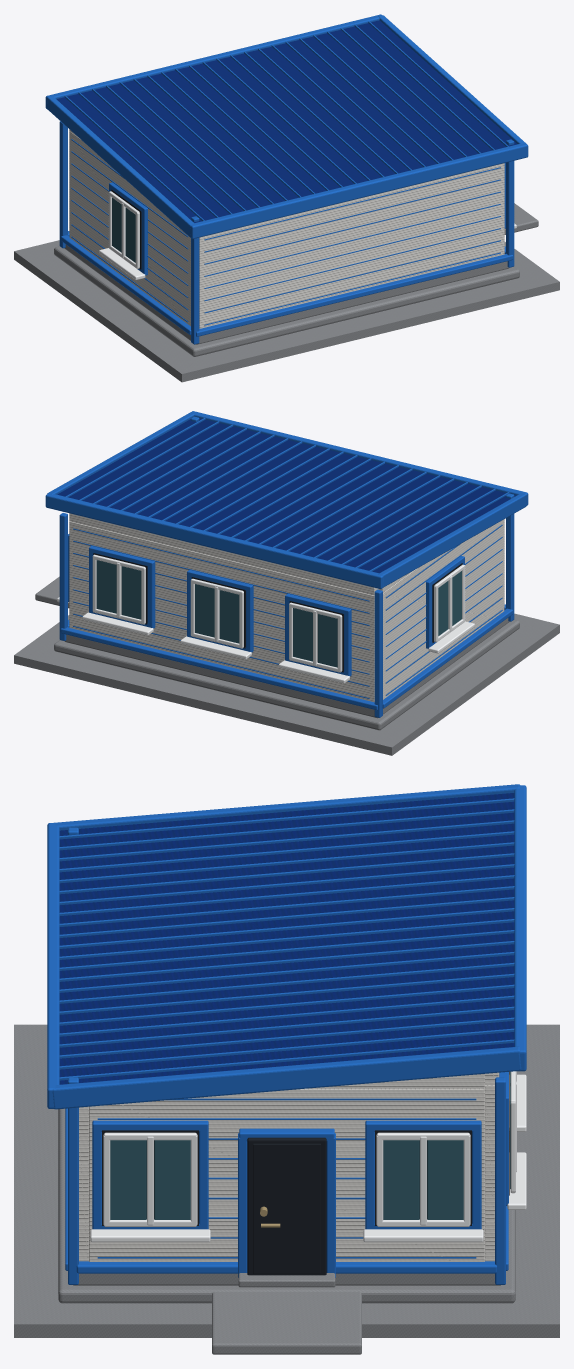
The model's file is House_reference_model.glb.
The picture shows the model from 3 angles, top to bottom: view 1: azimuth 30°, elevation 25°; view 2: azimuth 150°, elevation 25°; view 3: azimuth 270°, elevation 25°; orthographic projection. The views are drawn at different scales.
Parts seen in each view (by area): view 1: Roof_Slab, South_Wall, Ground, West_Wall, Foundation_Slab, South_Roof_Fascia, Foundation_Plinth, West_Roof_Fascia, South_BaseRail, North_Roof_Fascia, East_Roof_Fascia, West_BaseRail (+38 smaller); view 2: Roof_Slab, North_Wall, Ground, West_Wall, Foundation_Slab, North_Roof_Fascia, Foundation_Plinth, RoofGap_North, North_BaseRail, West_Roof_Fascia, South_Roof_Fascia, West_BaseRail (+27 smaller); view 3: Roof_Slab, Ground, East_Wall, East_Roof_Fascia, East_Entry_Pad, Foundation_Slab, Door_Inset, Foundation_Plinth, West_Roof_Fascia, East_BaseRail, South_Roof_Fascia, North_Roof_Fascia (+56 smaller).
Part boxes in pixels (<box>): Roof_Slab: <box>56,20,517,222</box>; South_Wall: <box>199,163,504,328</box>; Ground: <box>14,240,559,382</box>; West_Wall: <box>69,131,190,326</box>; Foundation_Slab: <box>54,246,519,356</box>; South_Roof_Fascia: <box>190,143,528,238</box>; Foundation_Plinth: <box>64,244,509,344</box>; West_Roof_Fascia: <box>46,96,194,237</box>; South_BaseRail: <box>196,253,513,336</box>; North_Roof_Fascia: <box>45,14,381,109</box>; East_Roof_Fascia: <box>378,15,526,143</box>; West_BaseRail: <box>61,235,191,334</box>; Roof_Slab: <box>57,418,516,573</box>; North_Wall: <box>69,521,374,702</box>; Ground: <box>14,613,559,755</box>; West_Wall: <box>383,519,504,699</box>; Foundation_Slab: <box>54,619,519,730</box>; North_Roof_Fascia: <box>45,494,383,589</box>; Foundation_Plinth: <box>64,618,509,718</box>; RoofGap_North: <box>69,513,378,595</box>; North_BaseRail: <box>60,627,377,710</box>; West_Roof_Fascia: <box>378,493,527,587</box>; South_Roof_Fascia: <box>191,411,528,505</box>; West_BaseRail: <box>382,608,512,708</box>; Roof_Slab: <box>59,793,514,1084</box>; Ground: <box>14,1024,559,1337</box>; East_Wall: <box>89,1088,484,1261</box>; East_Roof_Fascia: <box>52,1046,521,1109</box>; East_Entry_Pad: <box>212,1292,361,1354</box>; Foundation_Slab: <box>58,1072,515,1303</box>; Door_Inset: <box>253,1143,320,1273</box>; Foundation_Plinth: <box>73,1273,500,1285</box>; West_Roof_Fascia: <box>54,784,519,830</box>; East_BaseRail: <box>76,1261,497,1273</box>; South_Roof_Fascia: <box>47,823,59,1108</box>; North_Roof_Fascia: <box>514,785,526,1071</box>.
Size of the model in its own units: 11.5 by 4.38 by 8.
Materials: 8 (3 with a texture image).
